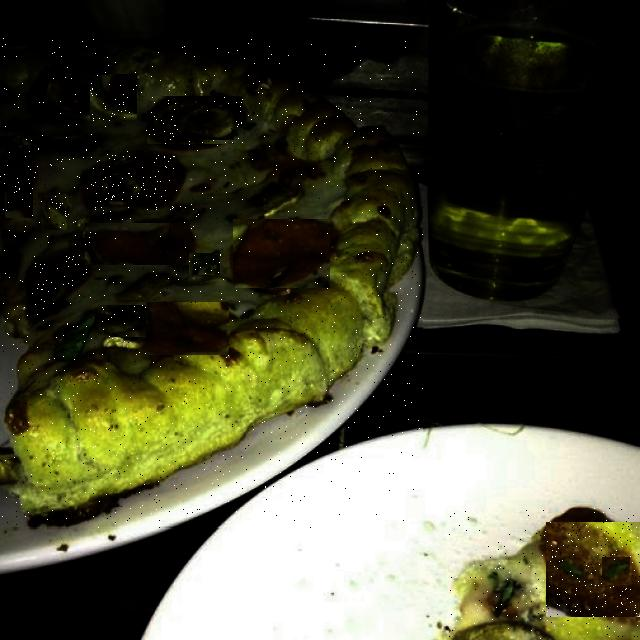Basil: (54, 318, 87, 360), (602, 557, 630, 585), (190, 254, 222, 275), (80, 136, 98, 152)
Mushrooms: (90, 76, 137, 121), (460, 618, 551, 640), (114, 270, 172, 302), (181, 105, 234, 140), (100, 167, 140, 210), (98, 306, 146, 337), (256, 176, 298, 210), (51, 70, 79, 112), (41, 196, 67, 230), (177, 205, 201, 223), (8, 133, 44, 145), (248, 75, 270, 91)
Pepperoni: (547, 522, 640, 617), (233, 220, 330, 288), (85, 155, 175, 210), (147, 97, 243, 144), (146, 303, 229, 355), (85, 224, 190, 265), (34, 62, 109, 113), (29, 254, 80, 308), (5, 151, 33, 218)
Pizza: (0, 39, 423, 528), (450, 507, 639, 640)
